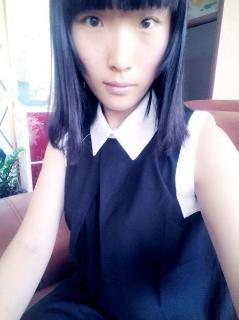short sleeve dress: (20, 86, 236, 319)
